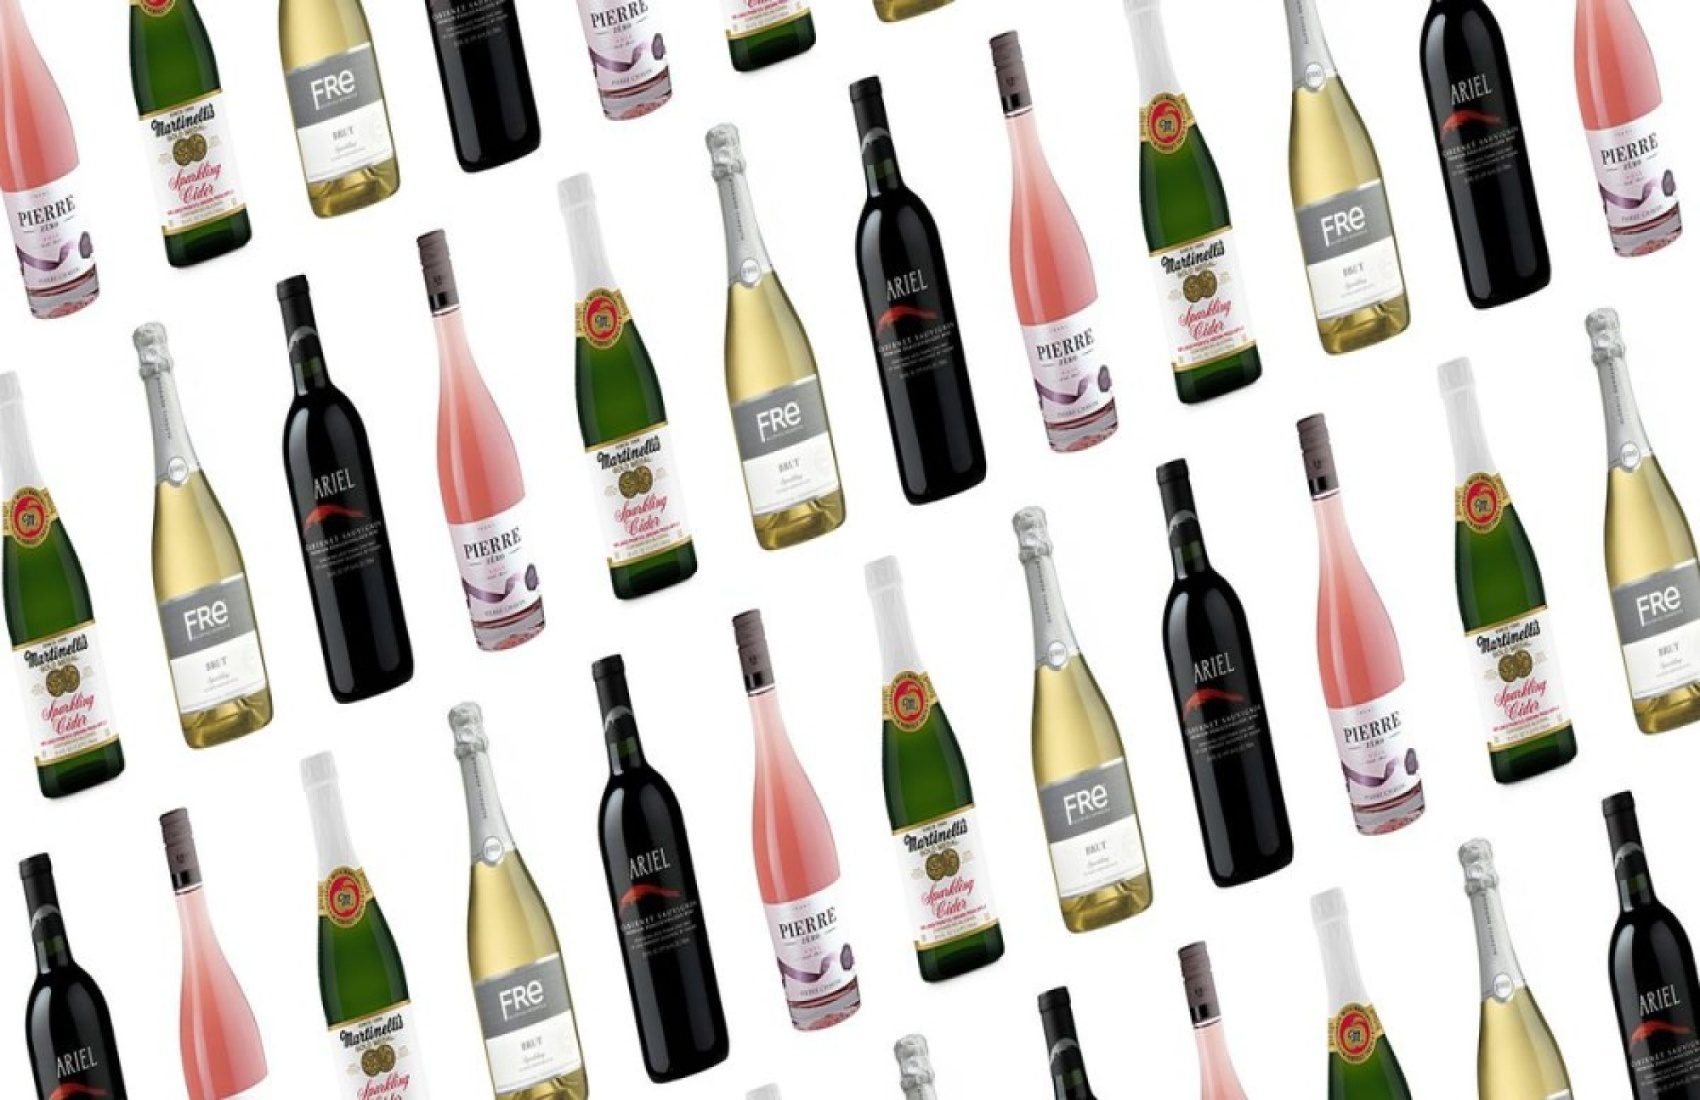wine: (453, 683, 574, 1100), (1434, 368, 1554, 785), (730, 605, 850, 1021), (1168, 469, 1289, 886), (856, 83, 976, 499), (136, 328, 256, 744), (715, 128, 835, 543), (1136, 1, 1256, 416), (567, 162, 686, 578), (418, 227, 537, 643)
